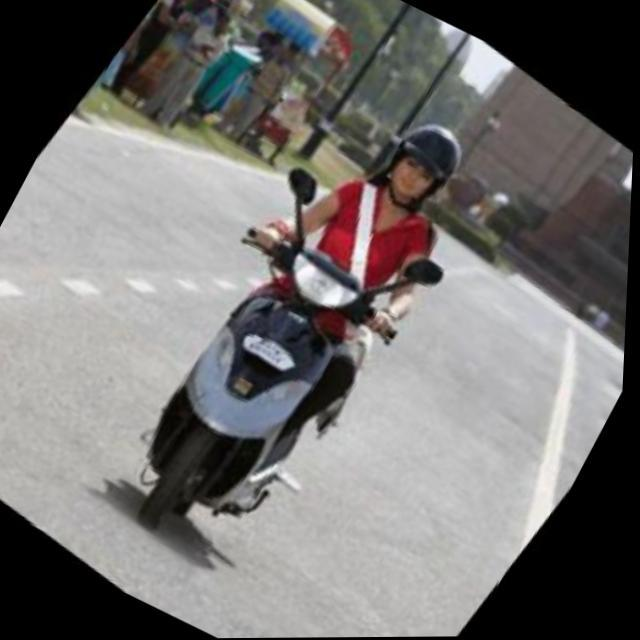Helmet: (380, 110, 465, 220)
